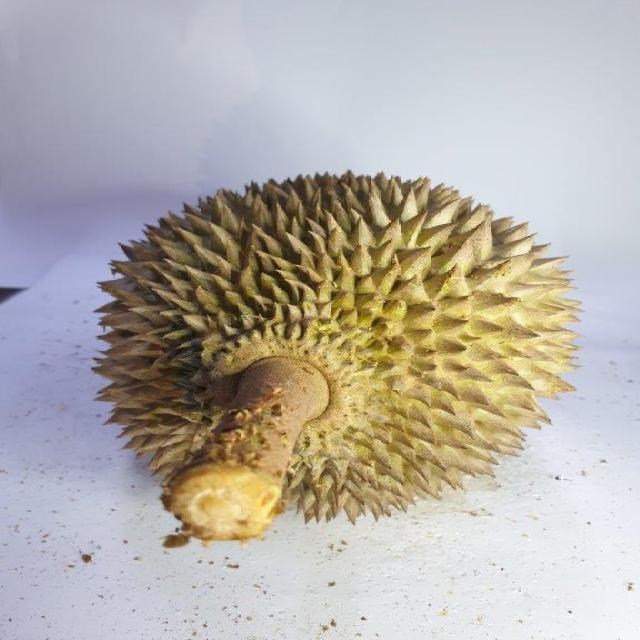mature: (90, 170, 582, 524)
